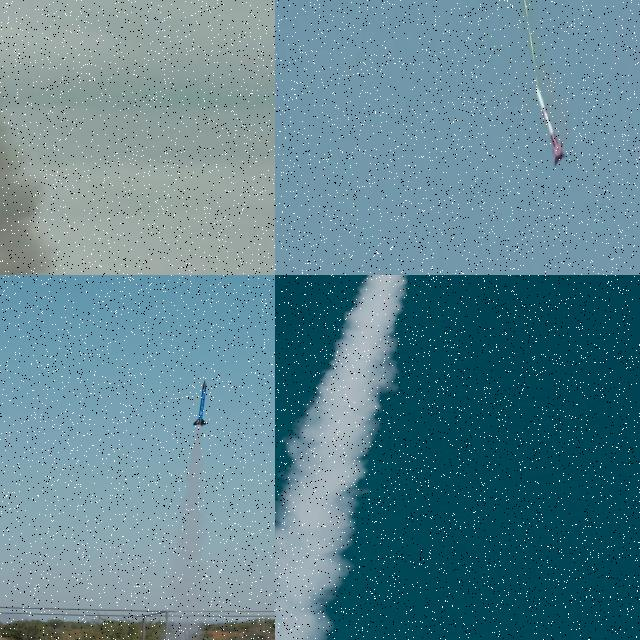Rocket: (535, 87, 566, 169), (193, 380, 207, 426)
